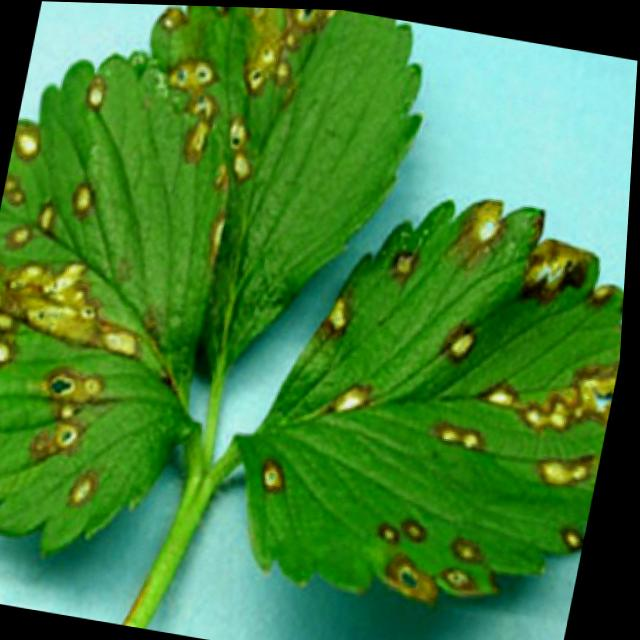Leaf Spot: (237, 195, 628, 606), (0, 52, 234, 566), (129, 4, 427, 384)
